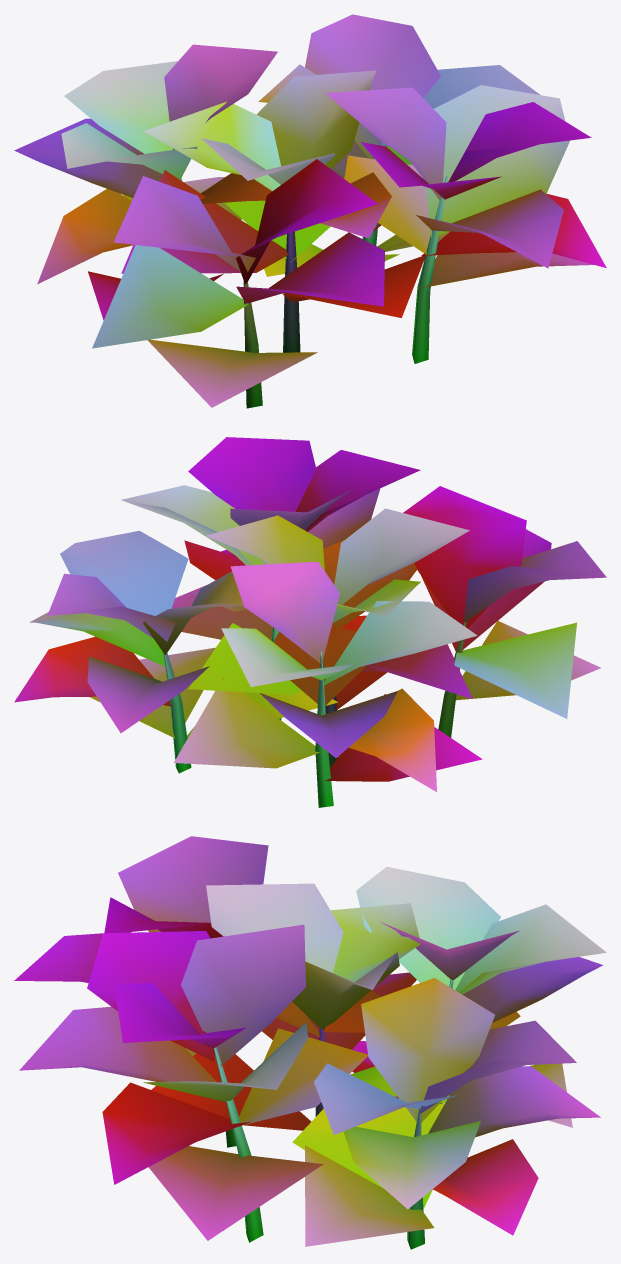
Rendered from G_PurplePerilla_001_S1.FBX.
3 renders of one model, top to bottom at view 1: azimuth 30°, elevation 25°; view 2: azimuth 150°, elevation 25°; view 3: azimuth 270°, elevation 25°, orthographic. The views are drawn at different scales.
Visible parts, largest first — view 1: G_PurplePerilla_001_S1_P01_LOD0; view 2: G_PurplePerilla_001_S1_P01_LOD0; view 3: G_PurplePerilla_001_S1_P01_LOD0.
Part boxes in pixels (x1,y1,x2,y2): G_PurplePerilla_001_S1_P01_LOD0: (14, 14, 606, 408); G_PurplePerilla_001_S1_P01_LOD0: (14, 437, 606, 807); G_PurplePerilla_001_S1_P01_LOD0: (14, 836, 606, 1249).
Size of what is drawn, in the model's own units: 152 by 73.76 by 142.
